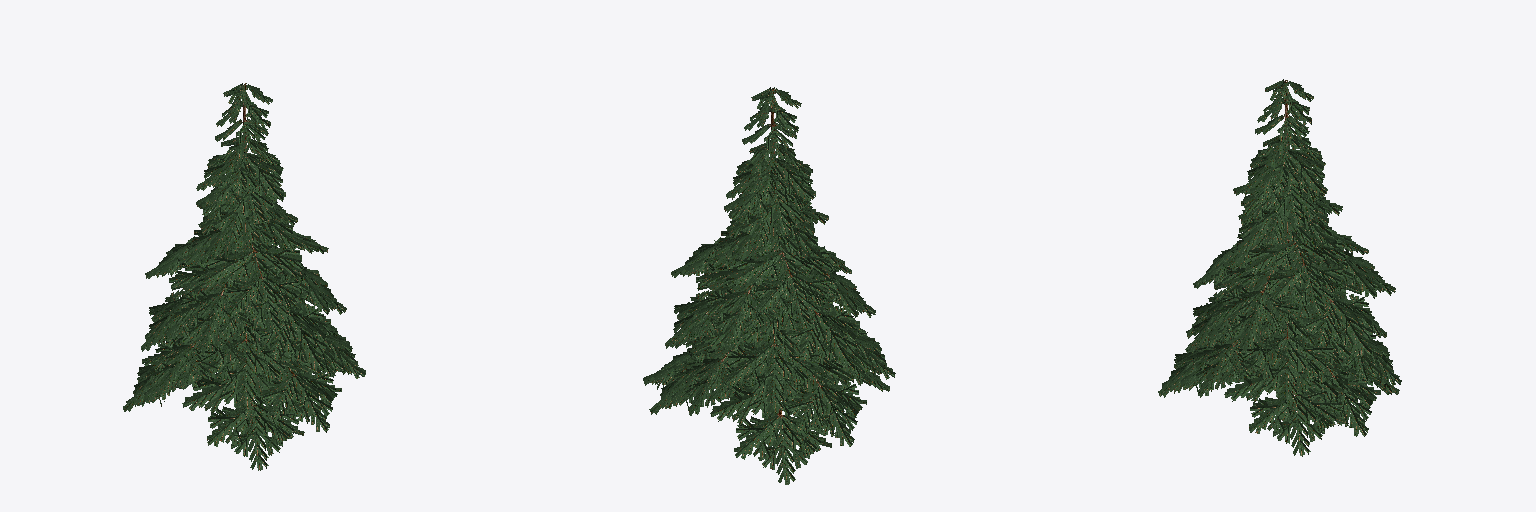
3 renders of one model, left to right at view 1: azimuth 30°, elevation 25°; view 2: azimuth 150°, elevation 25°; view 3: azimuth 270°, elevation 25°, orthographic.
Visible parts, largest first — view 1: tree1; view 2: tree1; view 3: tree1.
Part boxes in pixels (bbox=[...]): tree1: bbox=[123, 83, 365, 470]; tree1: bbox=[643, 87, 895, 484]; tree1: bbox=[1158, 79, 1401, 456].
Bounding box in the file's own units: 229 × 333 × 213.
Materials: 2 (2 with a texture image).